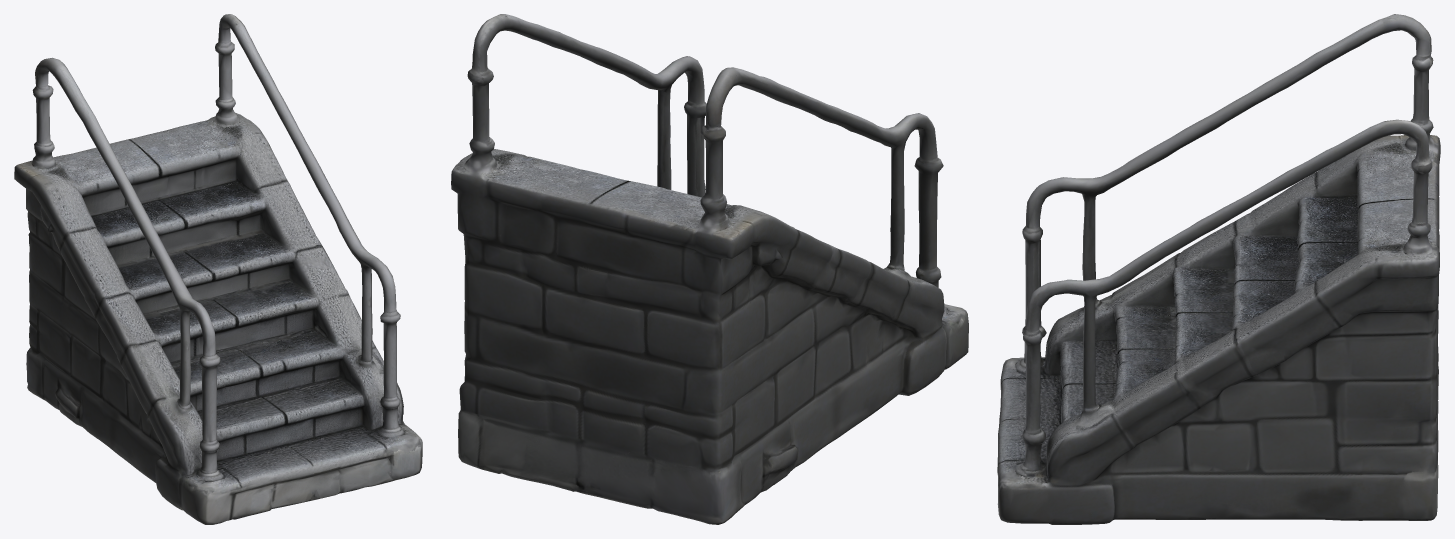
The model's file is stairs_ascending.glb.
The picture shows the model from 3 angles, left to right: view 1: azimuth 30°, elevation 25°; view 2: azimuth 150°, elevation 25°; view 3: azimuth 270°, elevation 25°; orthographic projection. The views are drawn at different scales.
Bounding box in the file's own units: 1.39 × 1.99 × 2.
1 material, 1 textured.
